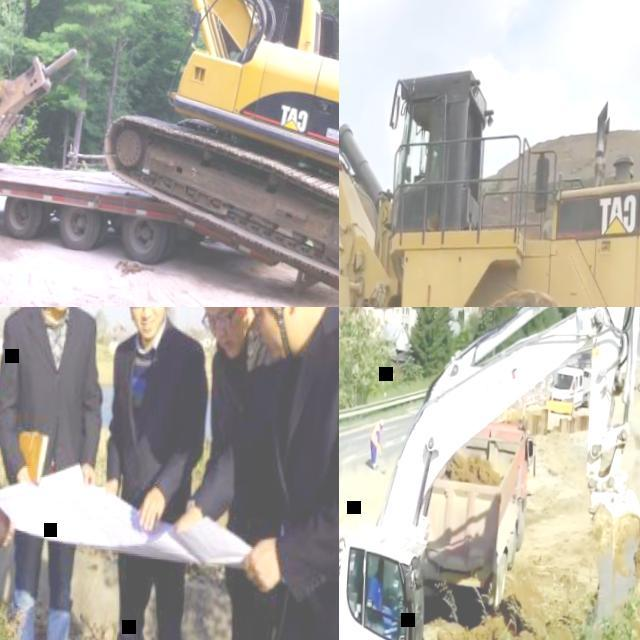helmet: (380, 419, 385, 425)
vest: (371, 423, 380, 447)
